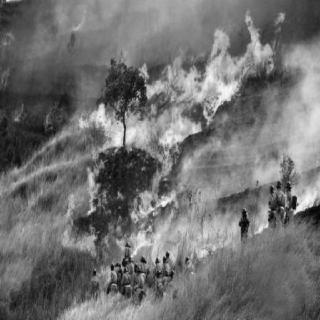Fire: (11, 100, 51, 128), (63, 8, 89, 32)
other: (265, 178, 299, 232)
